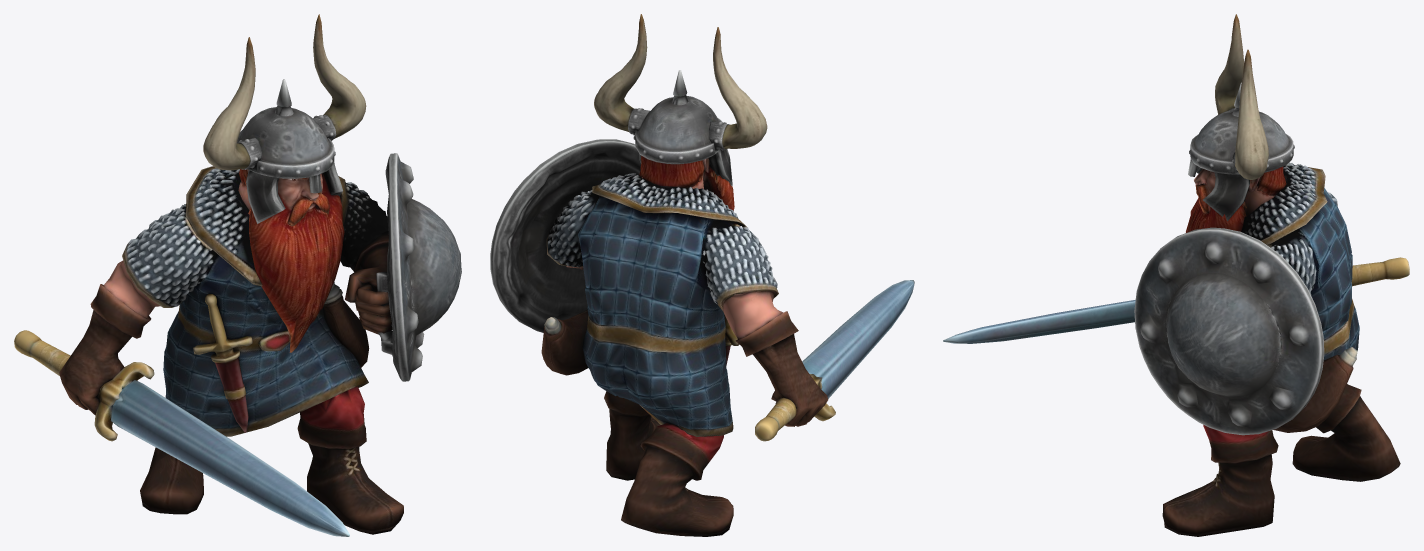
File: MZ4250 - Dwarf Fighter.glb
3 renders of one model, left to right at view 1: azimuth 30°, elevation 25°; view 2: azimuth 150°, elevation 25°; view 3: azimuth 270°, elevation 25°, orthographic. The views are drawn at different scales.
Visible parts, largest first — view 1: shield_low.001; view 2: shield_low.001; view 3: shield_low.001.
Part boxes in pixels (x1,y1,x2,y2): shield_low.001: [14, 14, 461, 536]; shield_low.001: [490, 14, 914, 536]; shield_low.001: [943, 14, 1409, 536].
Size of the model in its own units: 0.8037 by 1.09 by 0.9849.
Materials: 1 (1 with a texture image).
